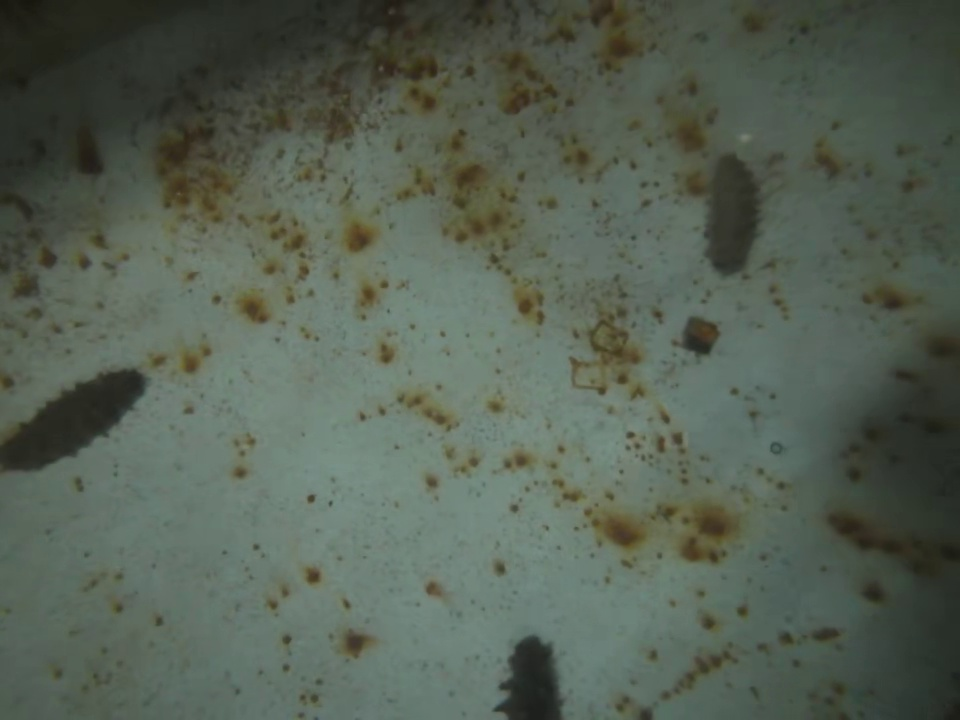seacucumber: (2, 367, 149, 474), (706, 147, 762, 280), (490, 633, 571, 720)
